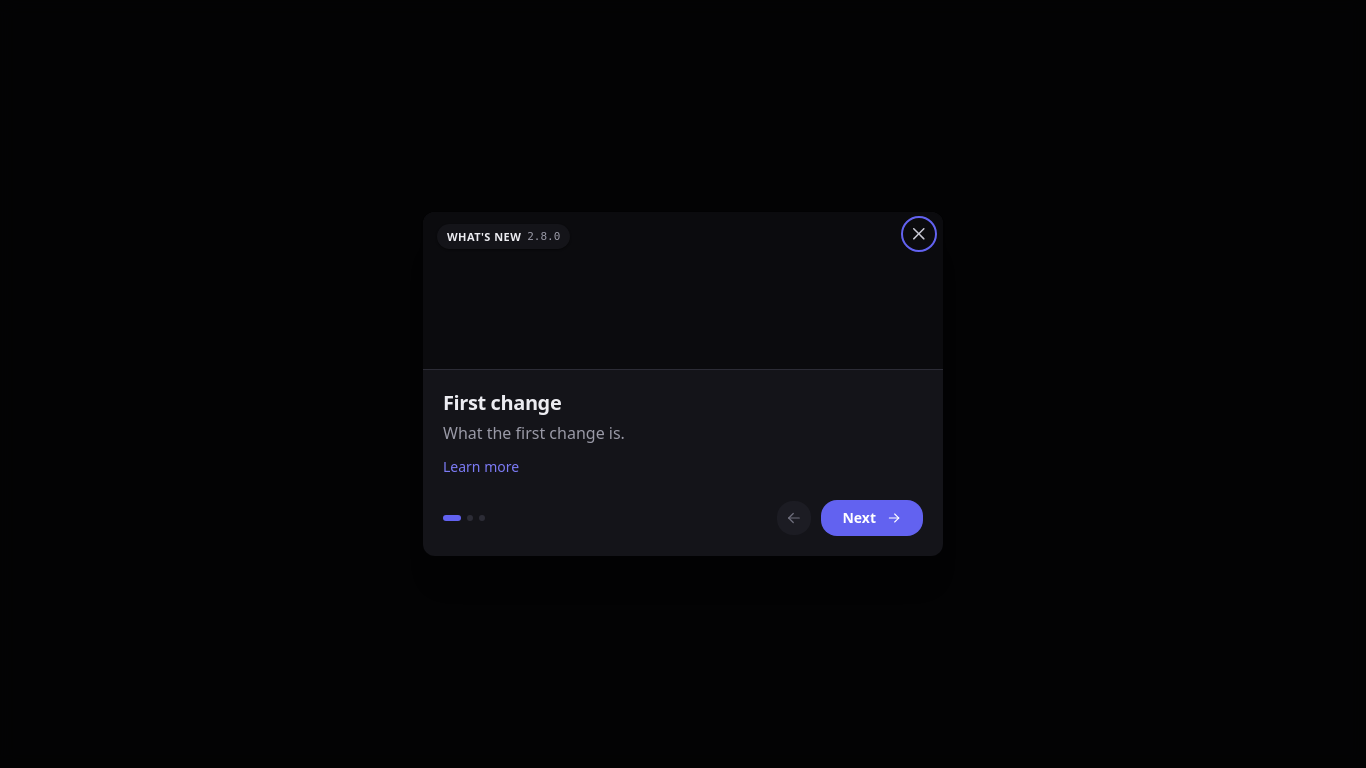
Test: ReleaseHighlightsModal › pages forward and back with the buttons
Click the button "Next": (872, 518) top-left (822, 500), bottom-right (923, 536)
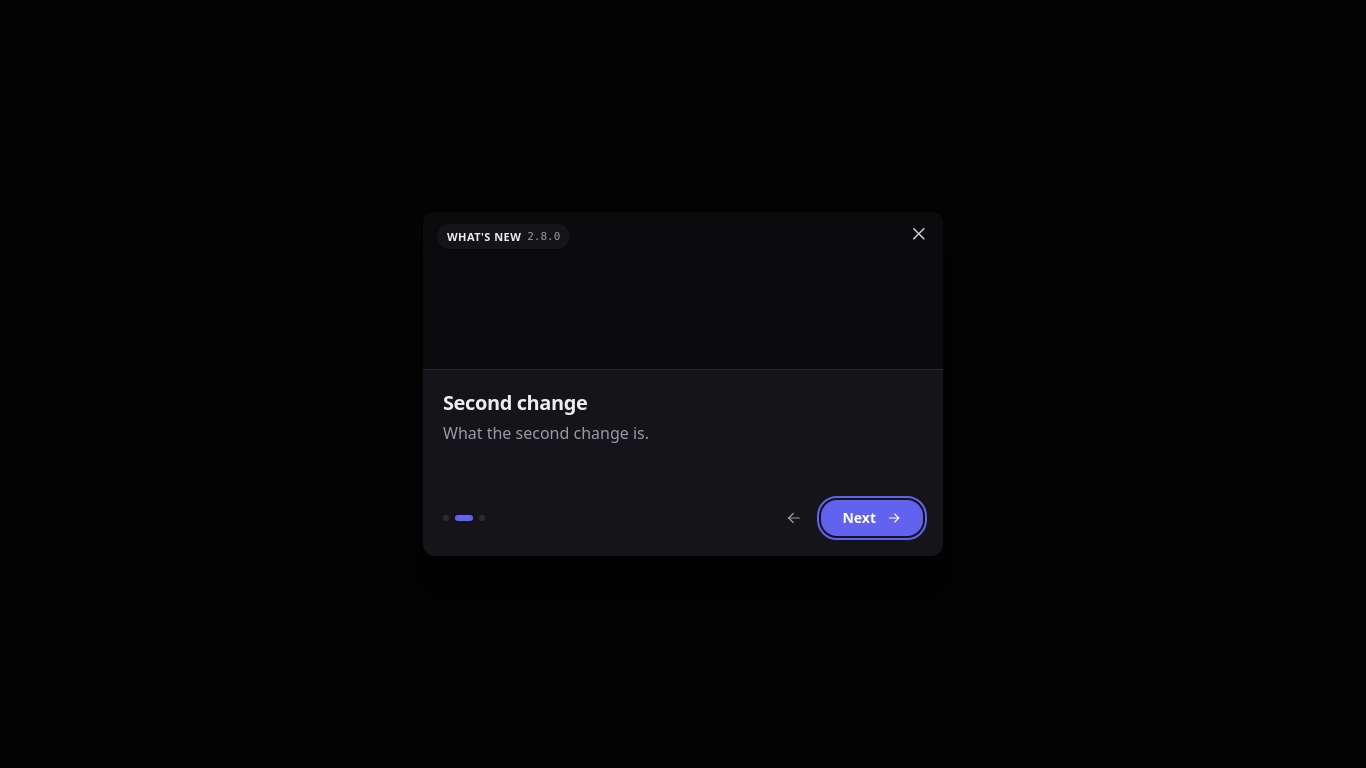
Expected: the heading "Second change" is shown, top-left (443, 389), bottom-right (587, 416)
Click the button named "Back": (794, 518) top-left (778, 501), bottom-right (812, 535)
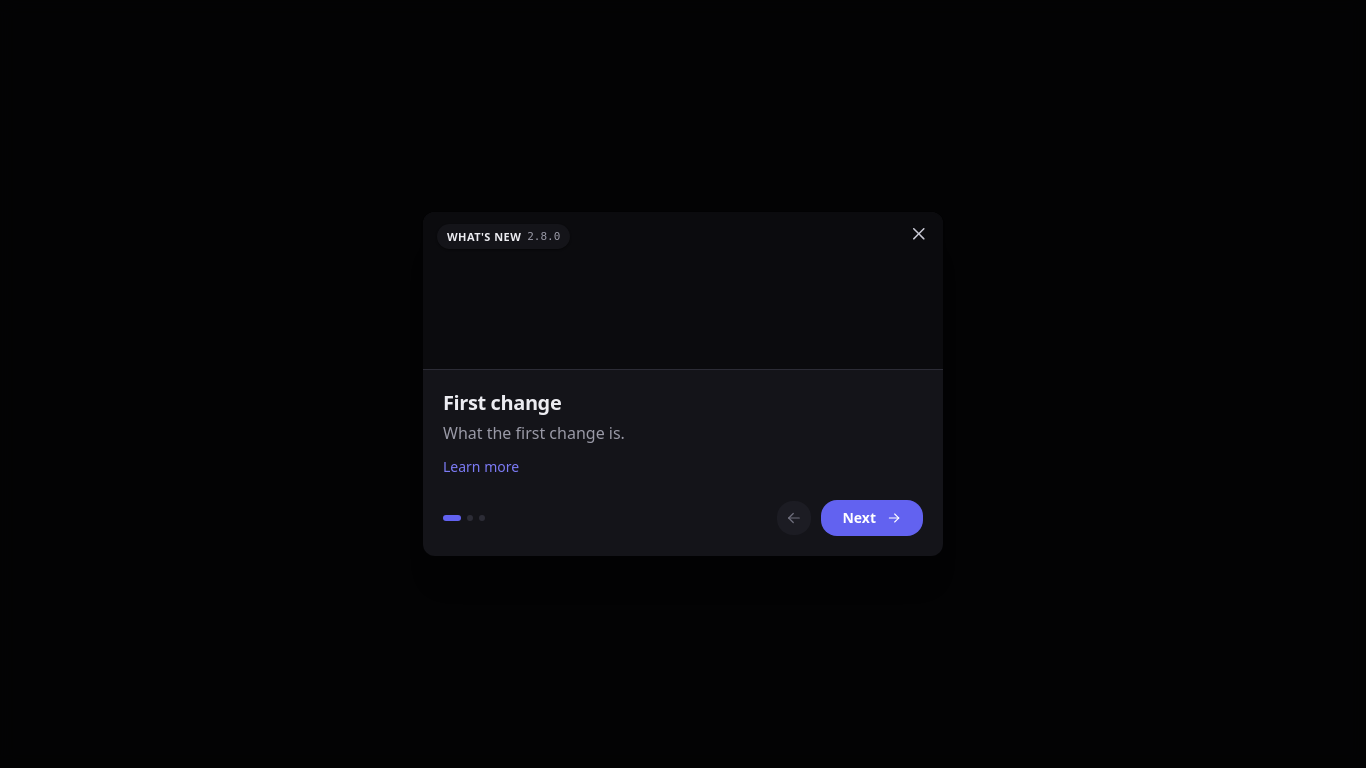
Expected: the heading "First change" is shown, top-left (443, 389), bottom-right (561, 416)
